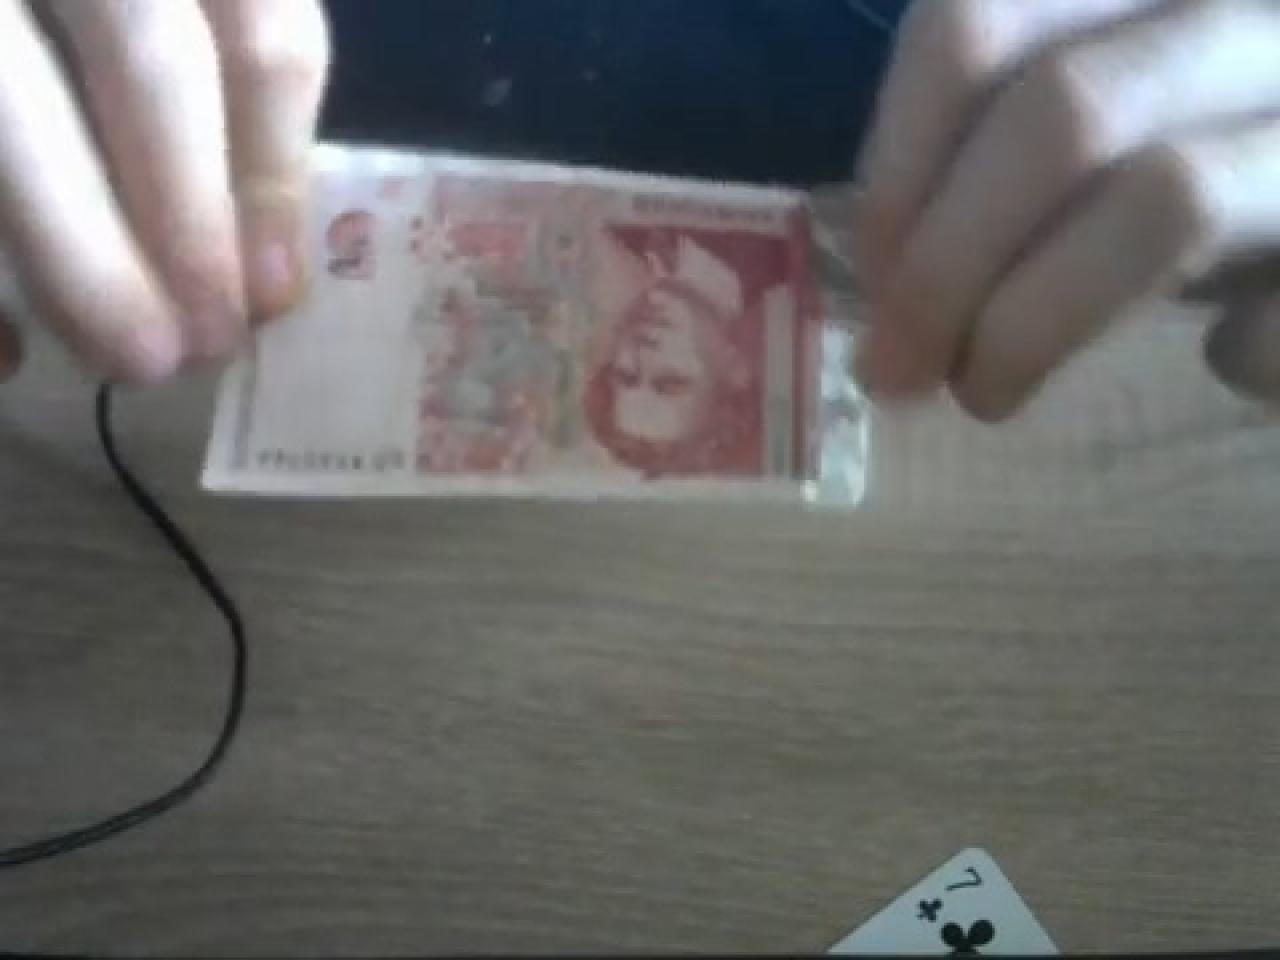5leva: (200, 149, 862, 506), (206, 152, 859, 506)
